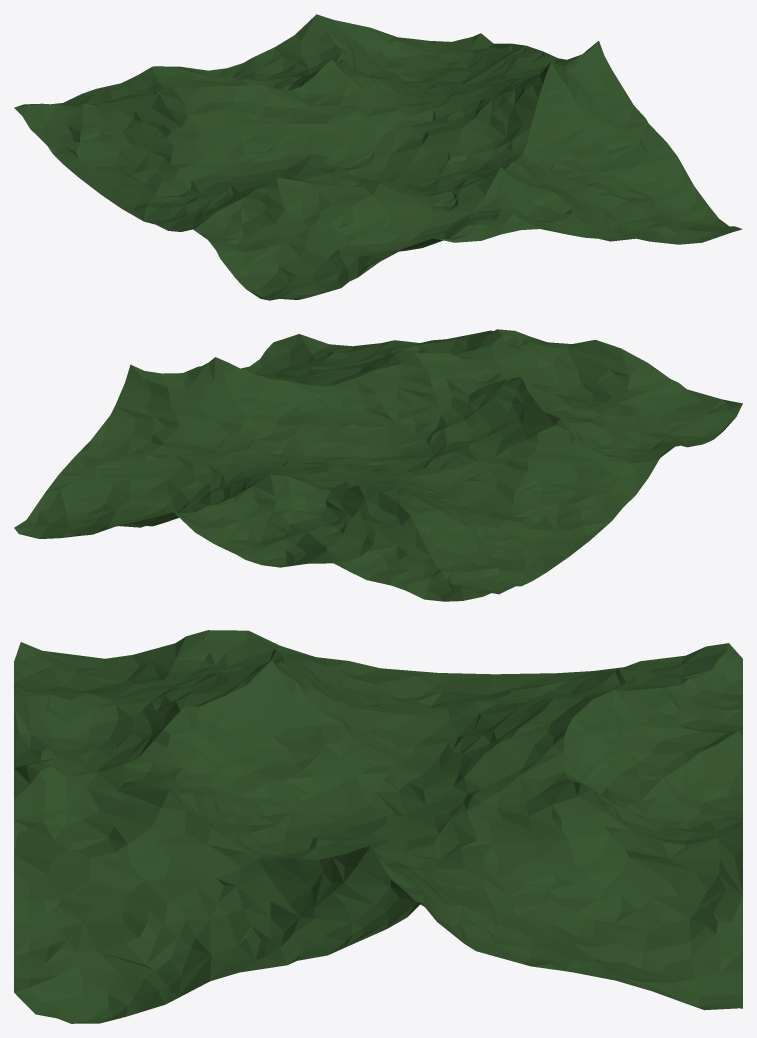
The model's file is SM_landscape_15.fbx.
3 views of the same model, one above another, from view 1: azimuth 30°, elevation 25°; view 2: azimuth 150°, elevation 25°; view 3: azimuth 270°, elevation 25° (orthographic). The views are drawn at different scales.
Parts seen in each view (by area): view 1: landscape_15; view 2: landscape_15; view 3: landscape_15.
Part boxes in pixels (x1,y1,x2,y2): landscape_15: (14,14,742,300); landscape_15: (14,329,742,601); landscape_15: (14,630,742,1023).
Bounding box in the file's own units: 2224 × 459 × 2224.
